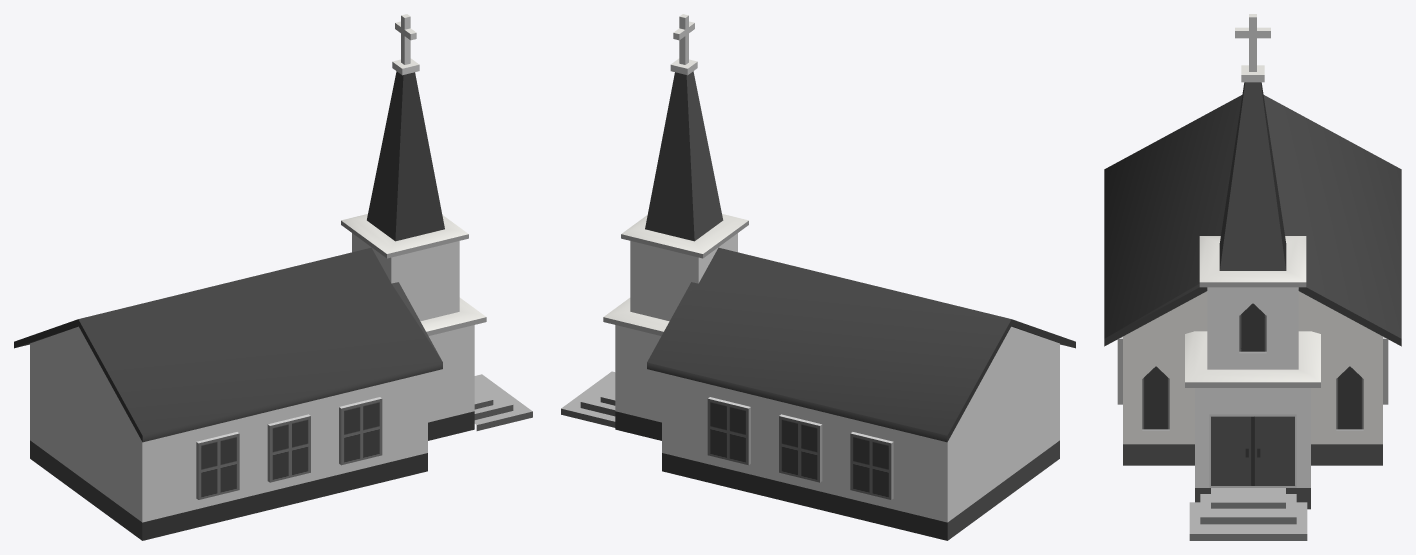
The model's file is church_mesh.fbx.
3 renders of one model, left to right at view 1: azimuth 30°, elevation 25°; view 2: azimuth 150°, elevation 25°; view 3: azimuth 270°, elevation 25°, orthographic. The views are drawn at different scales.
Parts seen in each view (by area): view 1: church_mesh; view 2: church_mesh; view 3: church_mesh.
Part boxes in pixels (<box>): church_mesh: <box>14,14,532,540</box>; church_mesh: <box>561,14,1075,540</box>; church_mesh: <box>1104,14,1401,540</box>.
Size of the model in its own units: 20.84 by 18.92 by 10.86.
Materials: 1 (1 with a texture image).
